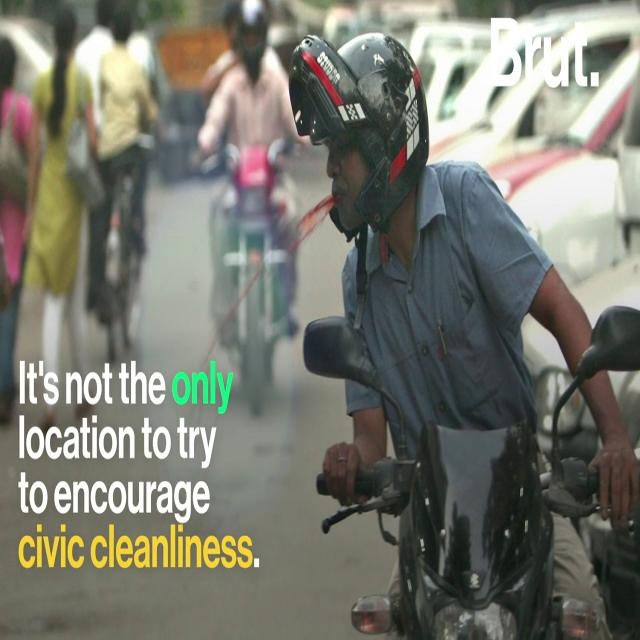spit: (192, 113, 365, 378)
